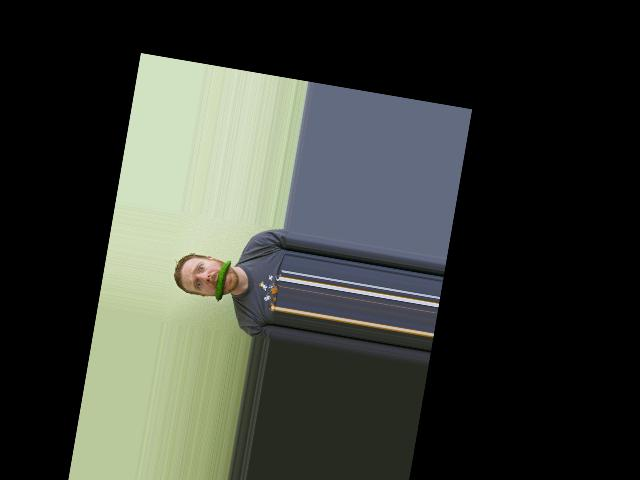cucumber: (214, 258, 231, 302)
